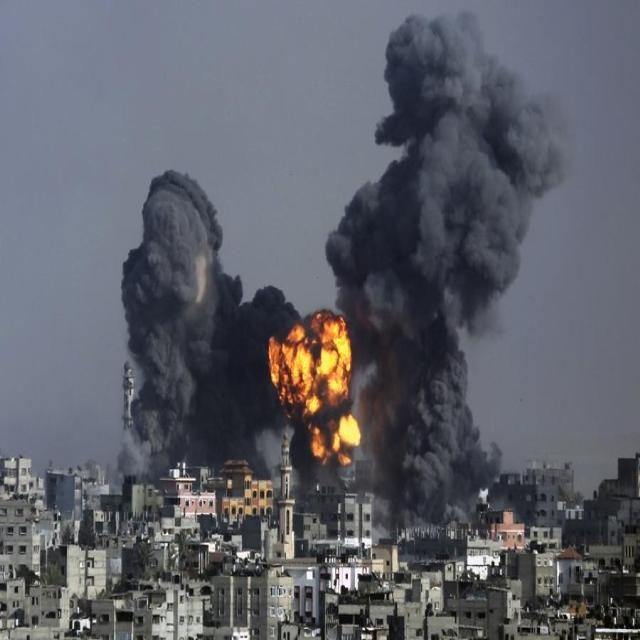Fire: (268, 312, 362, 468)
Smoke: (116, 11, 571, 546)
